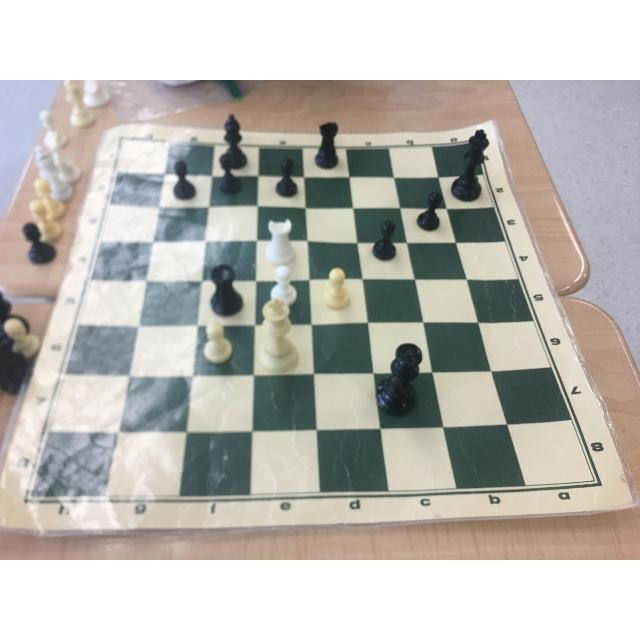black-bishop: (214, 109, 260, 170)
black-king: (454, 115, 491, 217)
black-pawn: (414, 189, 448, 238), (210, 156, 244, 199), (162, 157, 199, 196), (271, 159, 305, 201), (364, 220, 398, 257)
black-queen: (372, 330, 432, 426)
black-rook: (310, 113, 354, 174), (202, 261, 248, 317)
white-king: (257, 295, 303, 376)
white-pawn: (314, 266, 357, 313), (199, 317, 234, 367), (273, 263, 301, 309)
white-rook: (263, 215, 303, 270)
